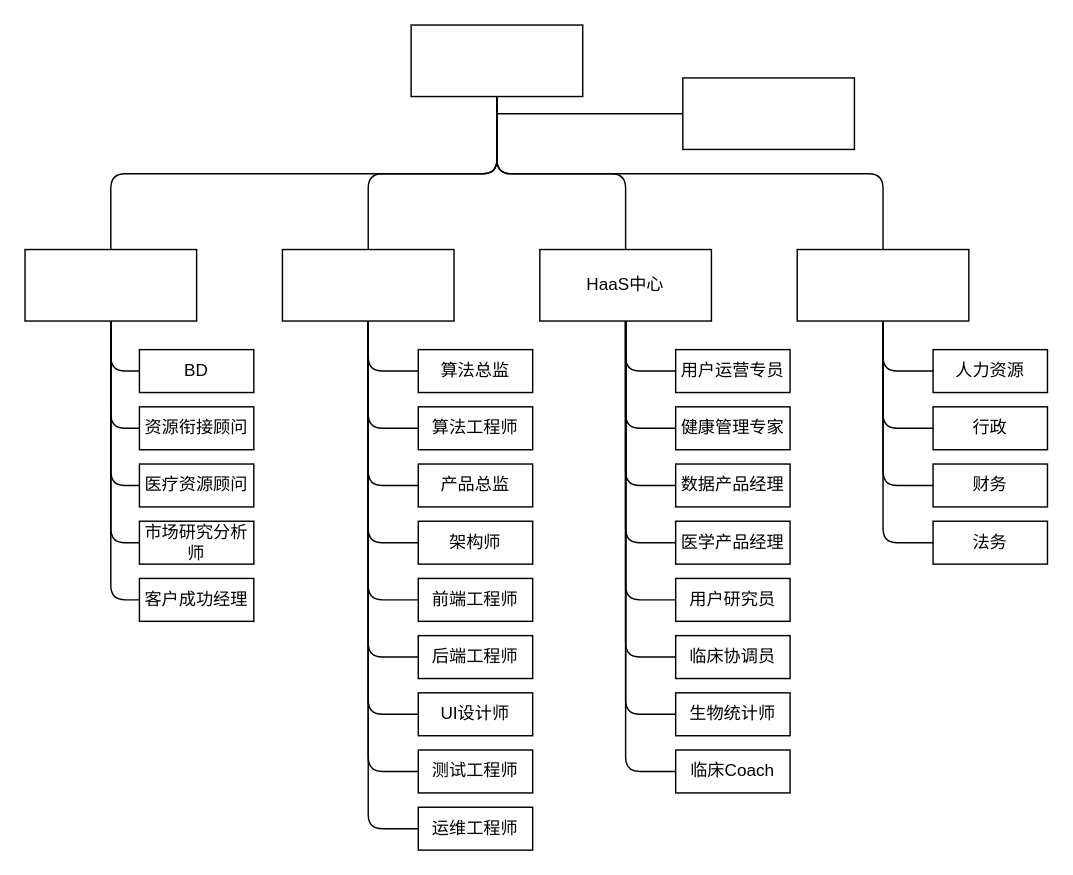
Some shapes in this 1073 by 875 pixel diagram are drawn without their labels. The shapes that lost their labels are listed below. From the top down, each one's centre as x and y in pixels, then its label:
At (x=496, y=60): "CEO".
At (x=767, y=113): "CEO助理".
At (x=110, y=284): "业务中心".
At (x=367, y=284): "技术中心".
At (x=882, y=284): "支持中心".
